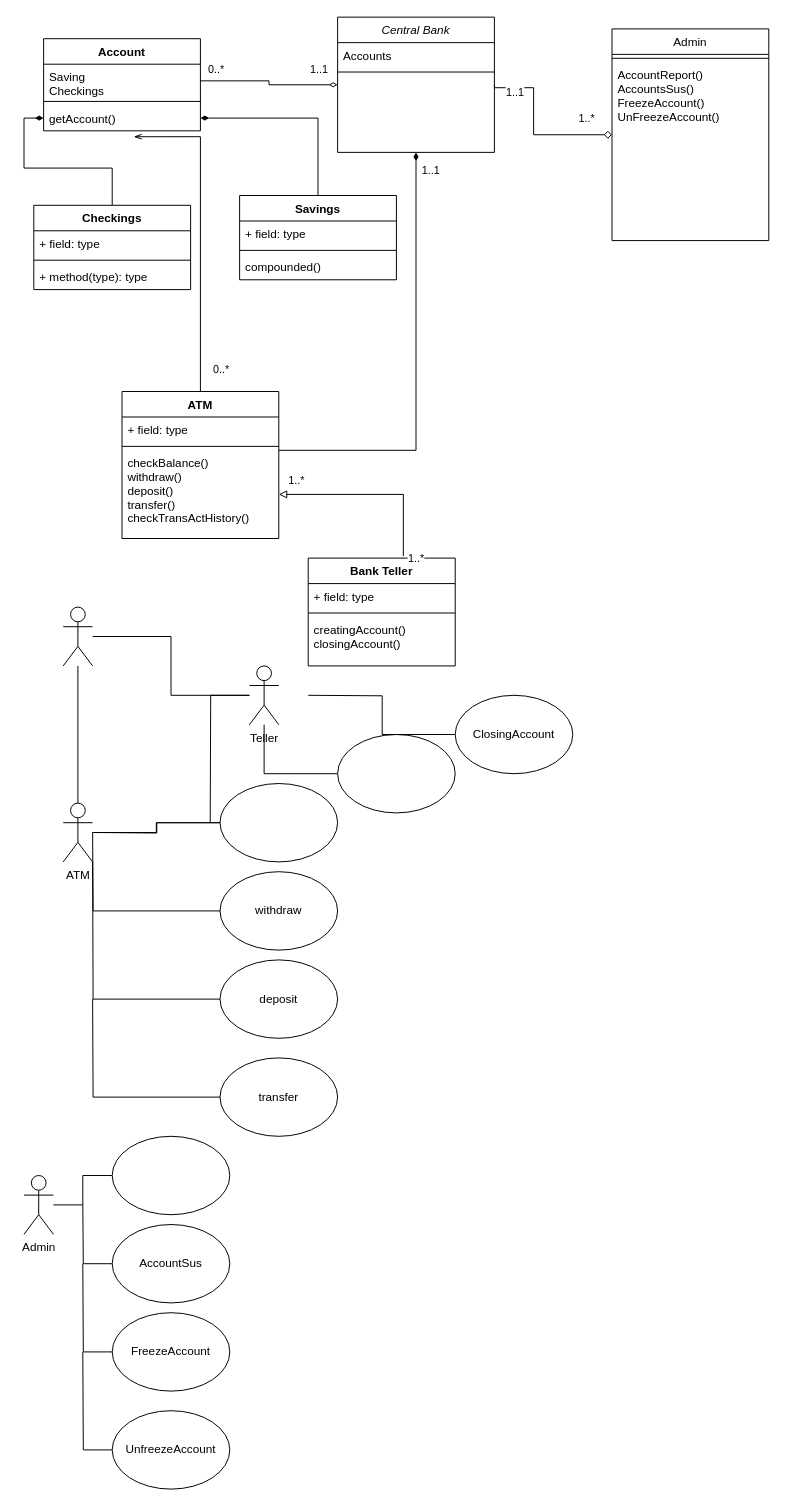
Image size: 786x1506. Some labels were removed from this diagram. The shapes that lost their labels are listed below. From the top down, each one's centre as x and y in pixels, then its label:
the point at 77,636: Customer
the point at 396,773: creatingAccount
the point at 278,822: checkBalance
the point at 170,1175: AccountReport
